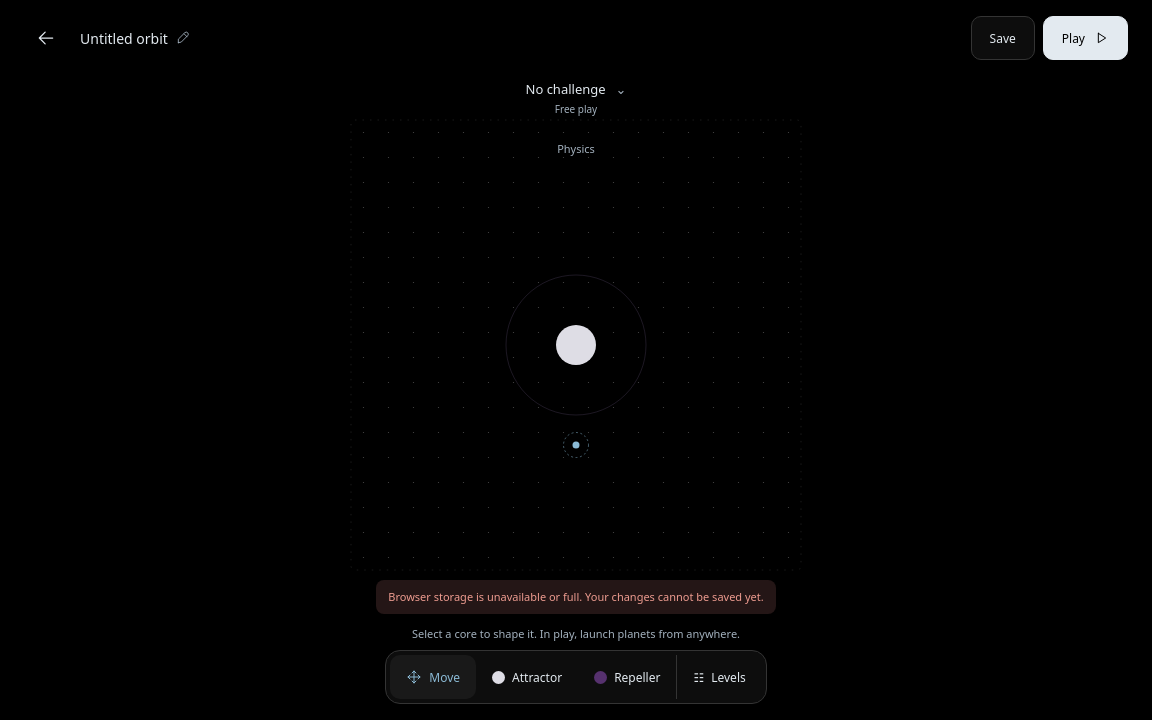
canvas Gravity creator › reports unavailable browser storage
The width and height of the screenshot is (1152, 720).
Click the button with aria-label "Save level".
click(1003, 38)  # box [971,16,1035,60]
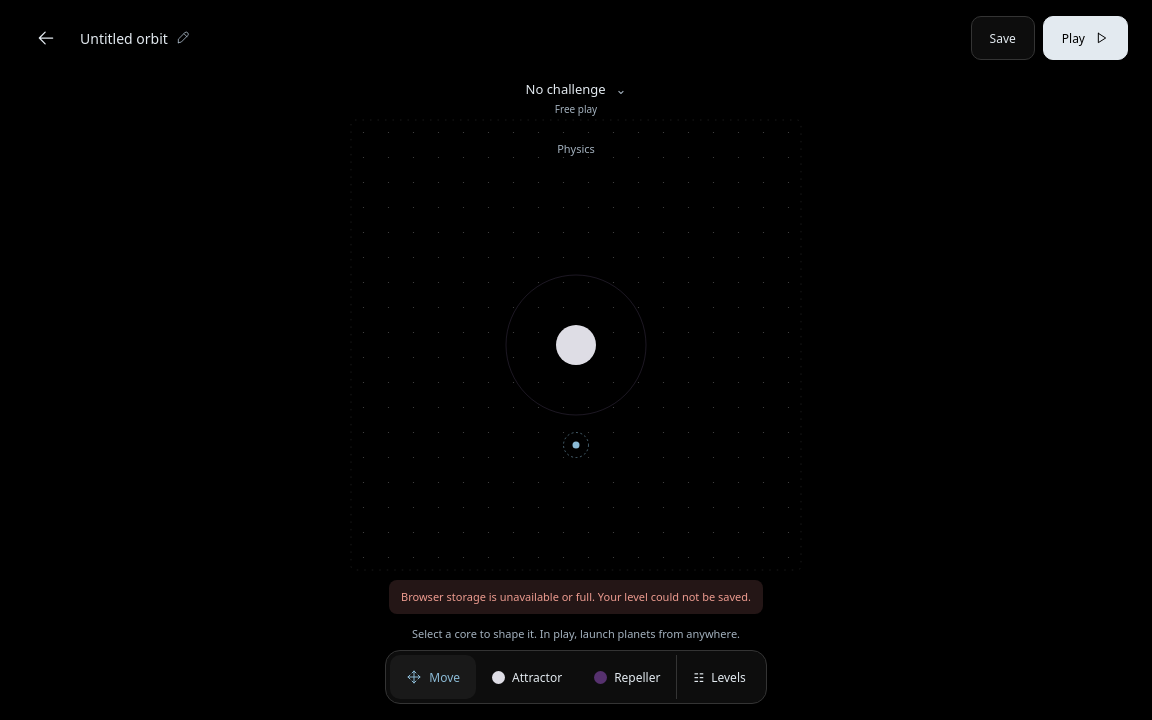
expect the message shows "could not be saved": met, box [401,589,751,604]
